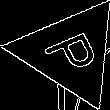P_NE: (35, 25, 104, 80)
